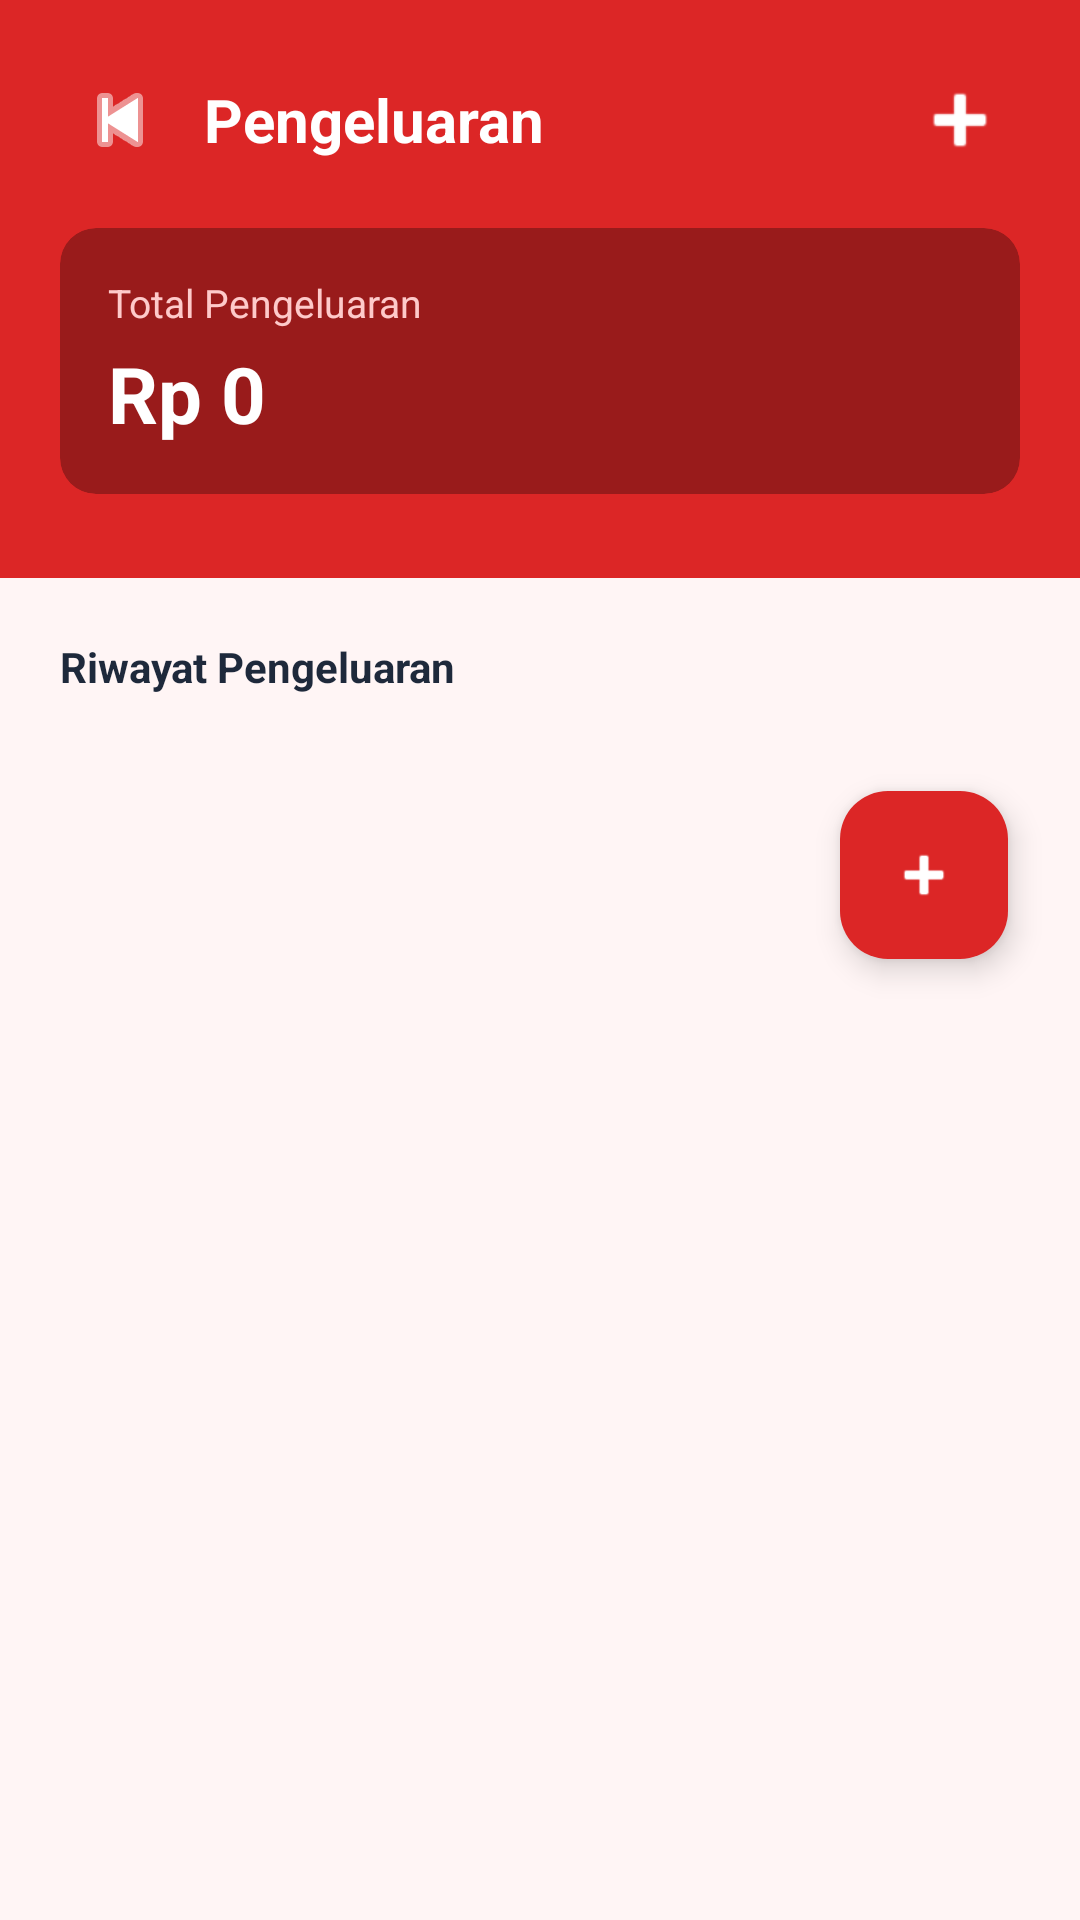

Icon bounding boxes for this 1080×1920 phone screenshot, format {"x1": x1, "y1": y1, "x2": x2, "y2": y2}:
Kembali: {"x1": 97, "y1": 93, "x2": 143, "y2": 147}
